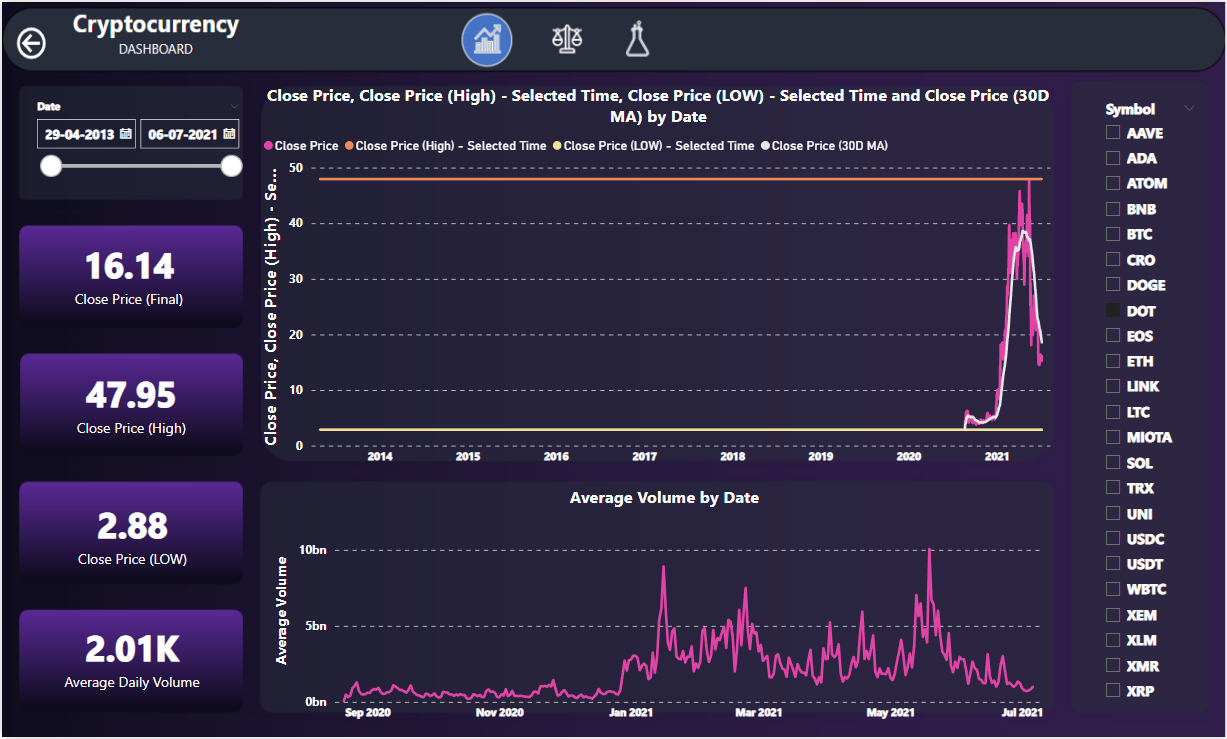

The dashboard page shown, as its layout file describes it:
{"tool":"powerbi","page":{"name":"Dashboard","canvas":[1400,840],"ordinal":1},"visuals":[{"type":"shape","box":[607.1,11.4,70,61.4],"z":0},{"type":"shape","box":[700,11.4,70,61.4],"z":1},{"type":"shape","box":[17.1,11.4,41.4,61.4],"z":2},{"type":"slicer","fields":{"Values":["Date.Date"]},"box":[27.1,105.7,255.7,100],"z":3},{"type":"card","fields":{"Values":["Key Measures.Close Price (Final)"]},"box":[32.9,262.9,224.3,95.7],"z":4},{"type":"card","fields":{"Values":["Key Measures.Close Price (High)"]},"box":[38.6,407.1,218.6,101.4],"z":5},{"type":"card","fields":{"Values":["Key Measures.Close Price (LOW)"]},"box":[40,558.6,218.6,98.6],"z":6},{"type":"card","fields":{"Values":["Key Measures.Average Daily Volume"]},"box":[35.7,698.6,225.7,98.6],"z":7},{"type":"slicer","fields":{"Values":["Crypto Symbols.Symbol"]},"box":[1248.6,105.7,127.1,714.3],"z":8},{"type":"lineChart","fields":{"Y":["Key Measures.Close Price","Key Measures.Close Price (High) - Selected Time","Key Measures.Close Price (LOW) - Selected Time","Key Measures.Close Price (30D MA)"],"Category":["Date.Date"]},"box":[292.9,92.9,914.3,444.3],"z":9},{"type":"lineChart","fields":{"Y":["Key Measures.Average Volume"],"Category":["Date.Date"]},"box":[307.1,552.9,900,277.1],"z":10}]}

Visuals, with their boxes in screenshot pixels (x1, y1, x2, y2), scaled from the page's 1400x840 canvas onto the 1227x739 screenshot:
shape: rect(532, 10, 593, 64)
shape: rect(614, 10, 675, 64)
shape: rect(15, 10, 51, 64)
slicer - Date.Date: rect(24, 93, 248, 181)
card - Key Measures.Close Price (Final): rect(29, 231, 225, 315)
card - Key Measures.Close Price (High): rect(34, 358, 225, 447)
card - Key Measures.Close Price (LOW): rect(35, 491, 227, 578)
card - Key Measures.Average Daily Volume: rect(31, 615, 229, 701)
slicer - Crypto Symbols.Symbol: rect(1094, 93, 1206, 721)
lineChart - Key Measures.Close Price x Key Measures.Close Price (High) - Selected Time: rect(257, 82, 1058, 473)
lineChart - Key Measures.Average Volume x Date.Date: rect(269, 486, 1058, 730)
